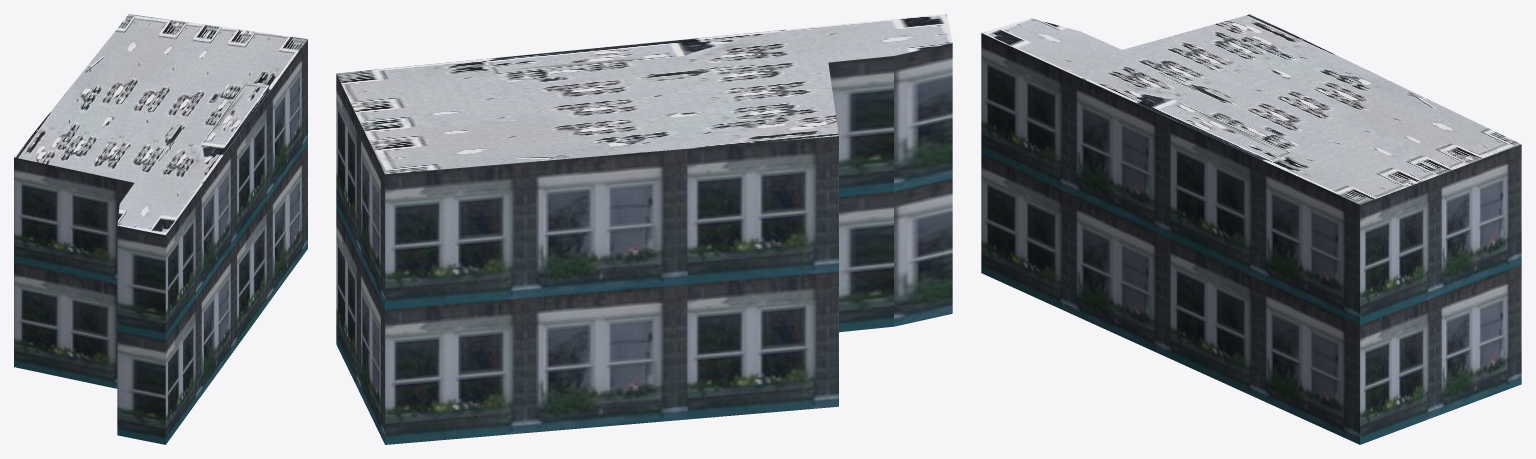
File: ResTex__2815.fbx
3 views of the same model, side by side, from view 1: azimuth 30°, elevation 25°; view 2: azimuth 150°, elevation 25°; view 3: azimuth 270°, elevation 25° (orthographic). The views are drawn at different scales.
Parts seen in each view (by area): view 1: CityEngineMaterial_11_m, CityEngineMaterial_8_m; view 2: CityEngineMaterial_11_m, CityEngineMaterial_8_m; view 3: CityEngineMaterial_11_m, CityEngineMaterial_8_m.
Boxes of the visible parts, x1,y1,x2,y2 form: CityEngineMaterial_11_m: [14, 39, 307, 444]; CityEngineMaterial_8_m: [14, 14, 307, 235]; CityEngineMaterial_11_m: [336, 43, 952, 444]; CityEngineMaterial_8_m: [336, 14, 952, 174]; CityEngineMaterial_11_m: [981, 33, 1521, 444]; CityEngineMaterial_8_m: [982, 14, 1521, 204].
Bounding box in the file's own units: 10.23 × 6 × 12.24.
2 materials, 2 textured.
